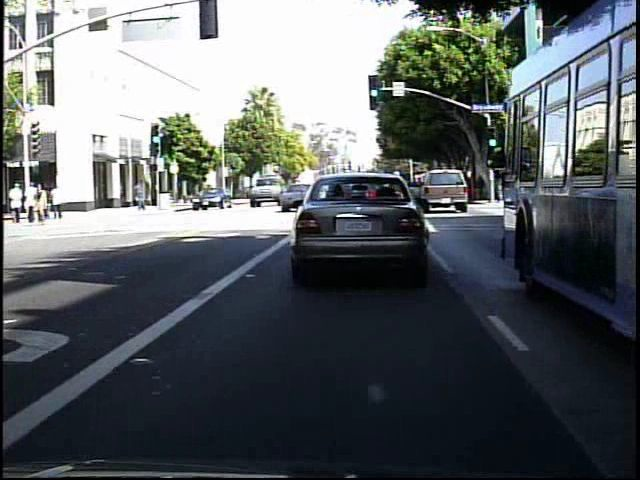person: (10, 181, 28, 226), (24, 180, 41, 224), (131, 177, 150, 214), (34, 183, 49, 228), (51, 181, 67, 221), (41, 184, 55, 220), (474, 169, 489, 202)
